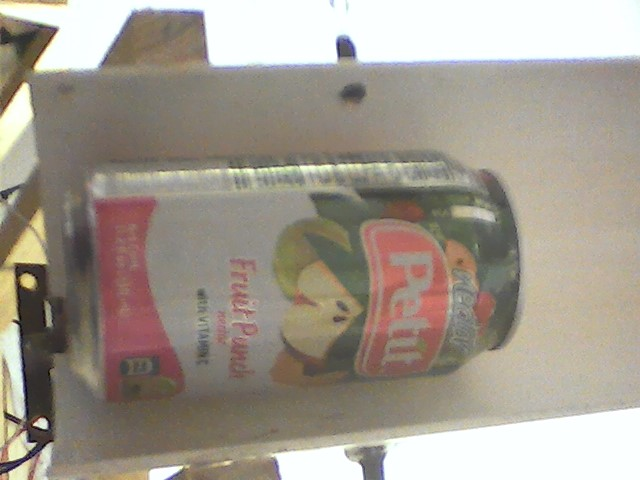lata: (53, 145, 536, 412)
